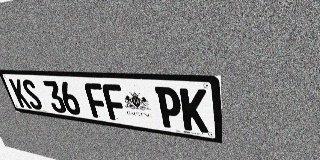3: (42, 80, 67, 114)
6: (57, 81, 82, 116)
F: (101, 84, 128, 122), (83, 83, 110, 119)
K: (180, 88, 209, 133), (8, 79, 32, 109)
P: (155, 87, 183, 130)
S: (20, 79, 44, 110)
